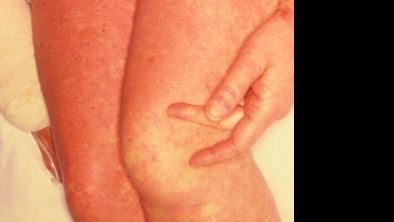SJS-TEN: (32, 2, 289, 221)
